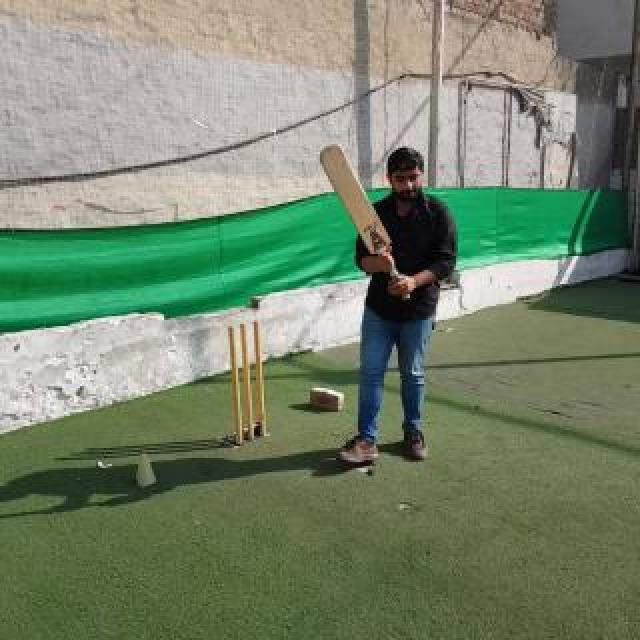bat: (319, 142, 411, 300)
